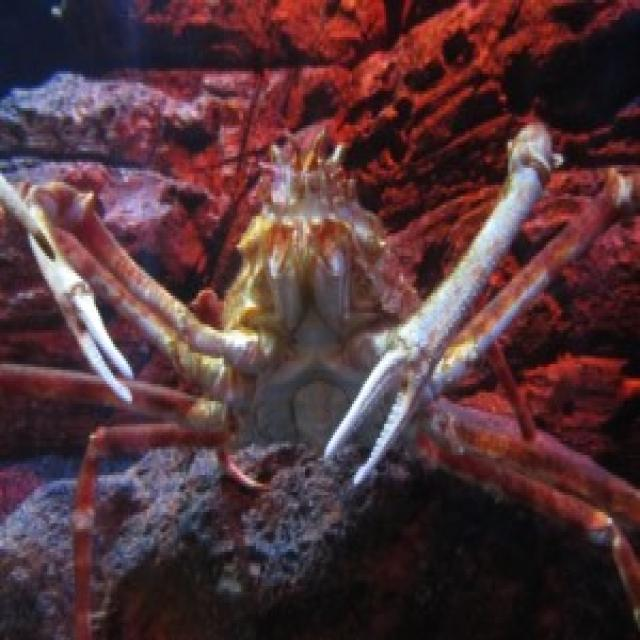lobsters: (8, 14, 640, 582)
